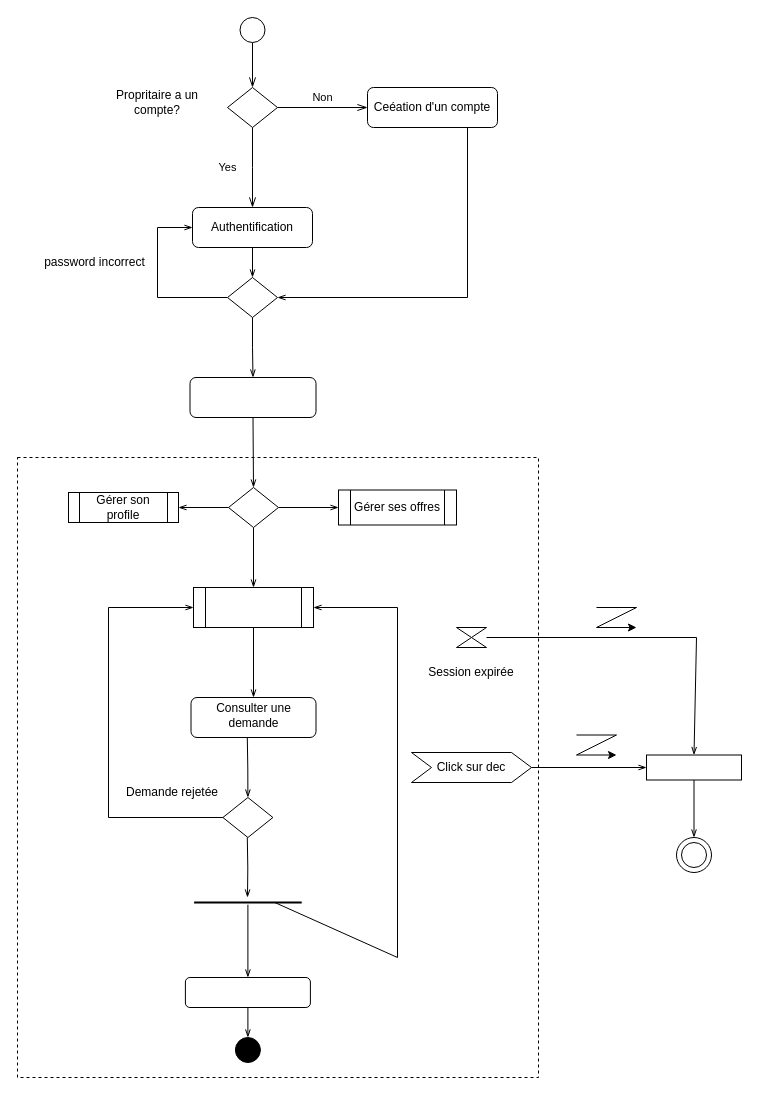
Some shapes in this 759 by 1095 pixel diagram are drawn without their labels. The shapes that lost their labels are listed below. From the top down, each one's centre as x and y in pixels, then its label:
(x=252, y=397): Choisir une option
(x=253, y=607): Consulter la liste du demande
(x=694, y=767): Deconxion
(x=247, y=992): Envoyer notification
